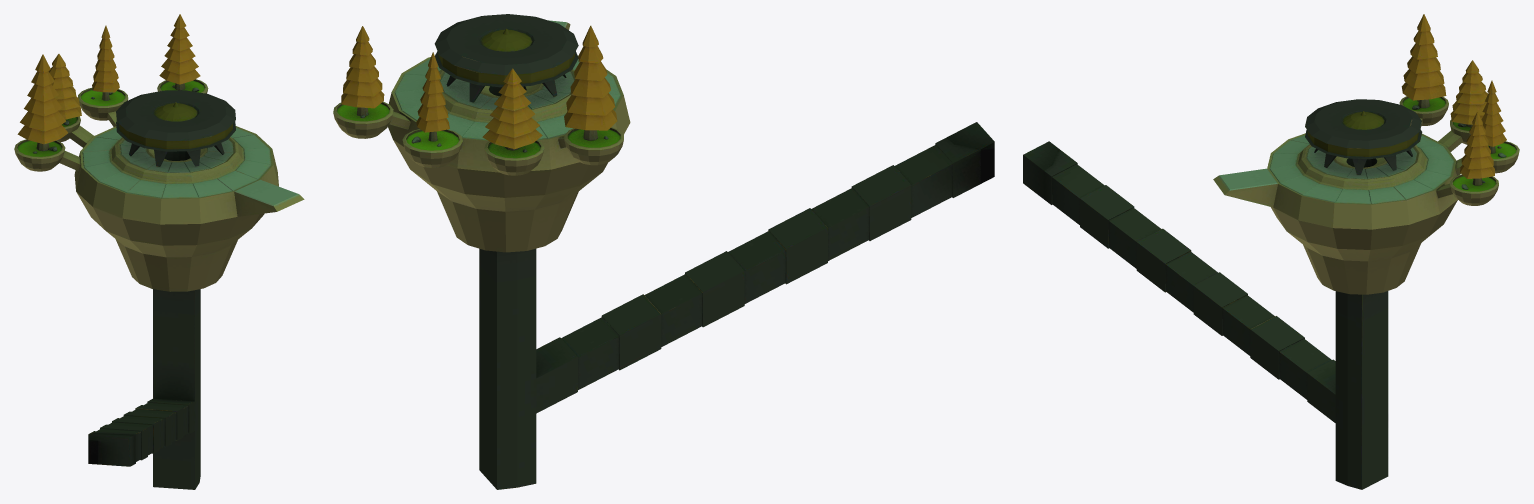
File: Base_Simon.fbx
3 views of the same model, side by side, from view 1: azimuth 30°, elevation 25°; view 2: azimuth 150°, elevation 25°; view 3: azimuth 270°, elevation 25° (orthographic). The views are drawn at different scales.
Parts seen in each view (by area): view 1: Base_Simon; view 2: Base_Simon; view 3: Base_Simon.
Part boxes in pixels (x1,y1,x2,y2): Base_Simon: (14, 14, 304, 489); Base_Simon: (333, 14, 994, 489); Base_Simon: (1023, 14, 1519, 489).
Bounding box in the file's own units: 63.22 × 76.37 × 82.61.
